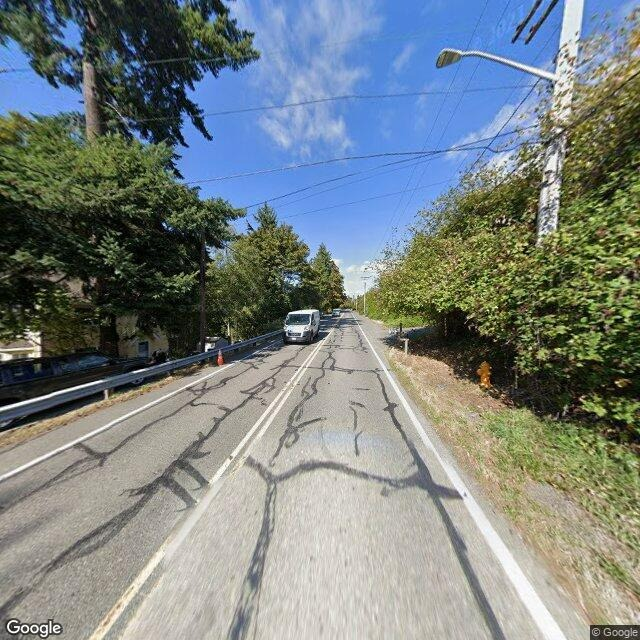hydrant: (471, 354, 496, 394)
